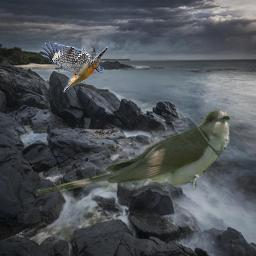Cuckoo: (35, 108, 230, 197)
Woodpecker: (39, 41, 108, 93)
